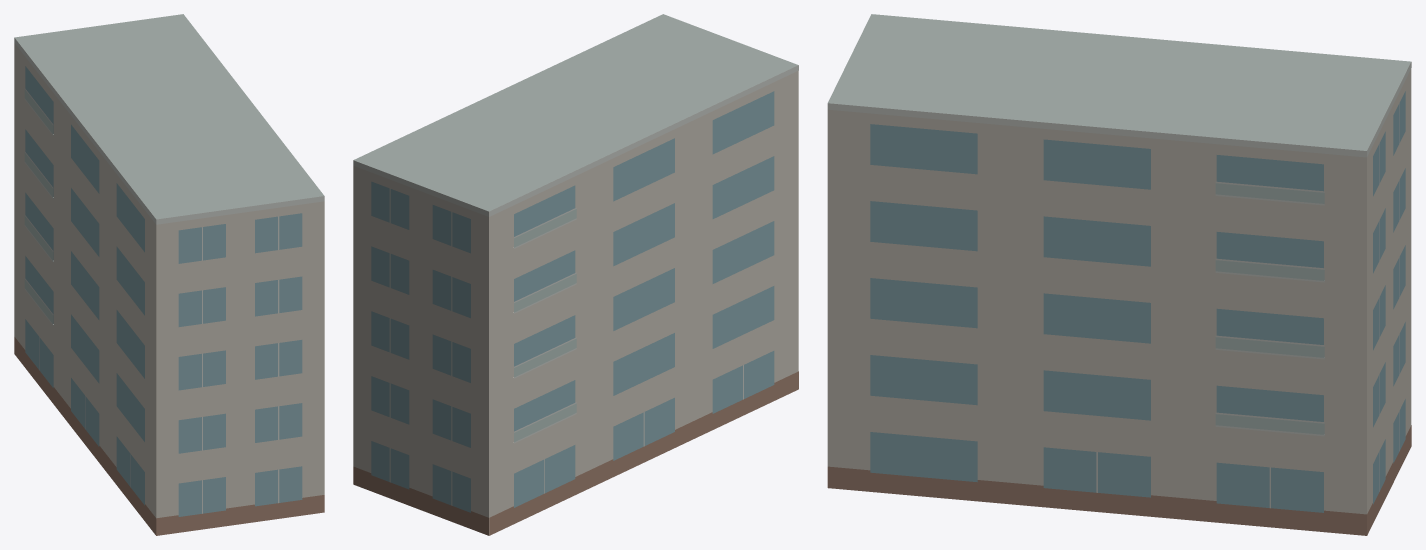
The model's file is survey-upis-32700787.glb.
3 renders of one model, left to right at view 1: azimuth 30°, elevation 25°; view 2: azimuth 150°, elevation 25°; view 3: azimuth 270°, elevation 25°, orthographic. The views are drawn at different scales.
Visible parts, largest first — view 1: survey-upis-32700787.tmp; view 2: survey-upis-32700787.tmp; view 3: survey-upis-32700787.tmp.
Boxes of the visible parts, x1,y1,x2,y2 form: survey-upis-32700787.tmp: [14, 14, 324, 535]; survey-upis-32700787.tmp: [353, 14, 798, 535]; survey-upis-32700787.tmp: [827, 14, 1411, 535].
Bounding box in the file's own units: 11.16 × 14.6 × 20.09.
